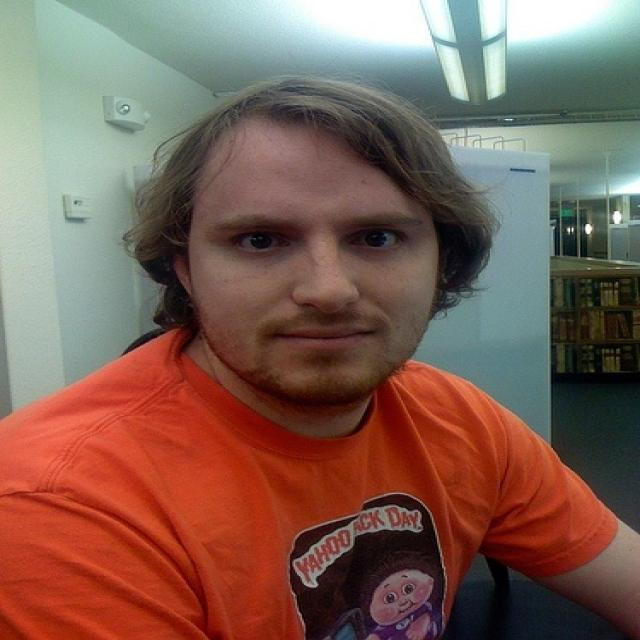opened_eye: (230, 228, 295, 256), (346, 226, 408, 251)
